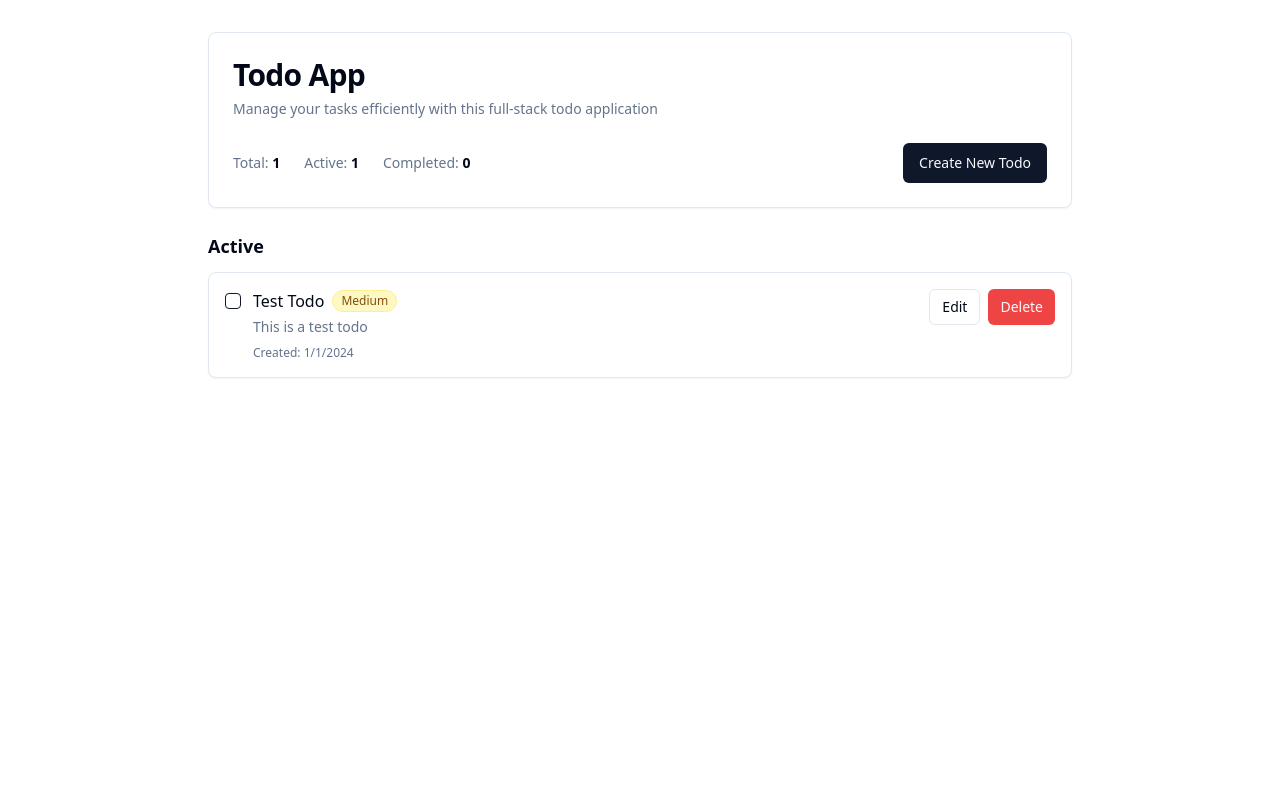
it: HomePage › should close dialog and clear editing todo
Click the button "Edit" at (955,307), box [929,289,980,325]
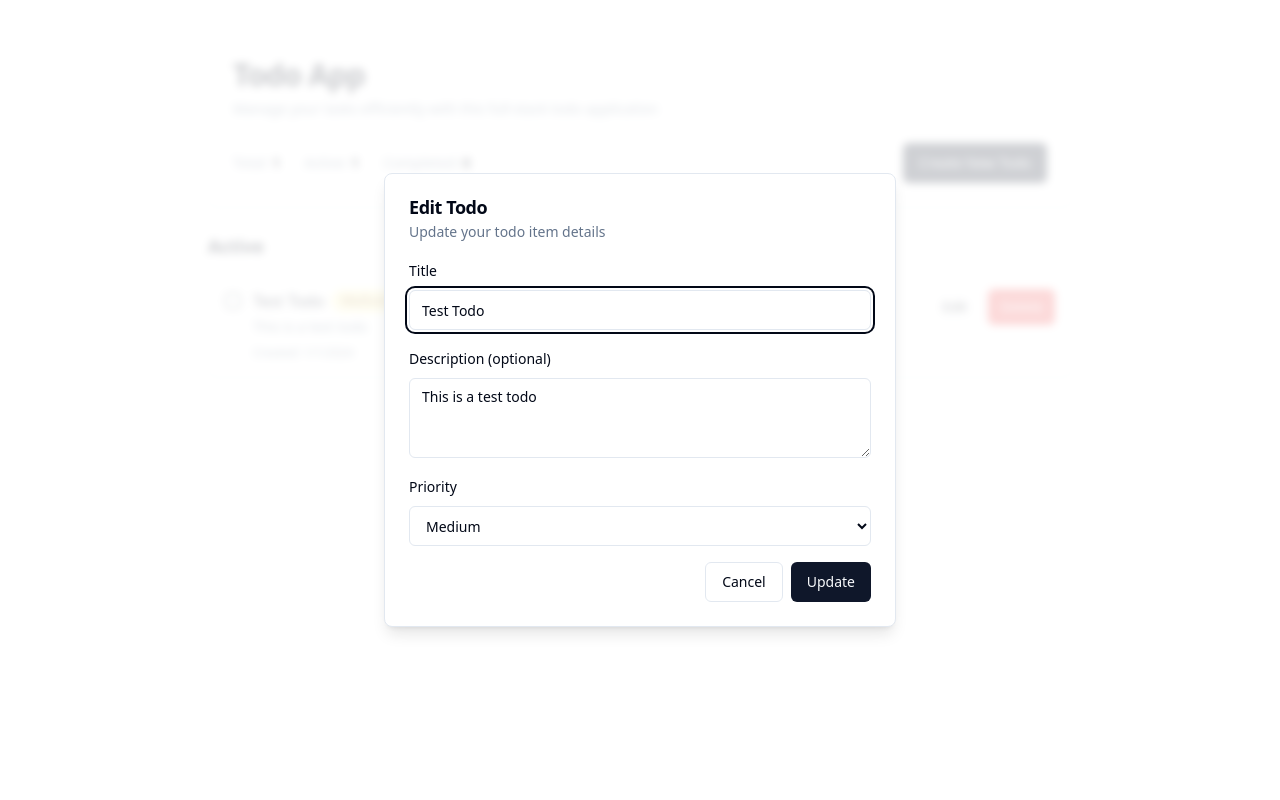
Now the heading "Edit Todo" is shown, box [409,195,487,219]
Click the button "Cancel" at (744,582), box [705,562,783,602]
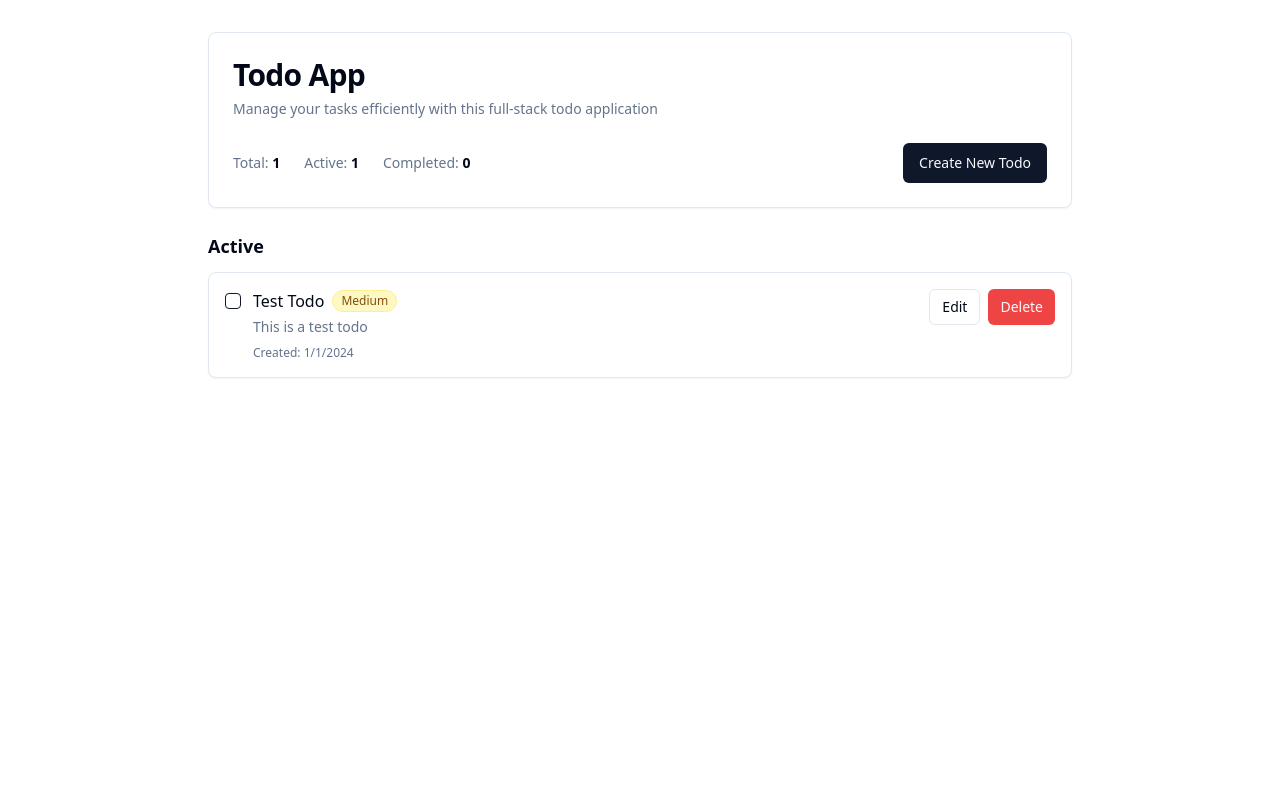
Now the heading "Edit Todo" is gone
